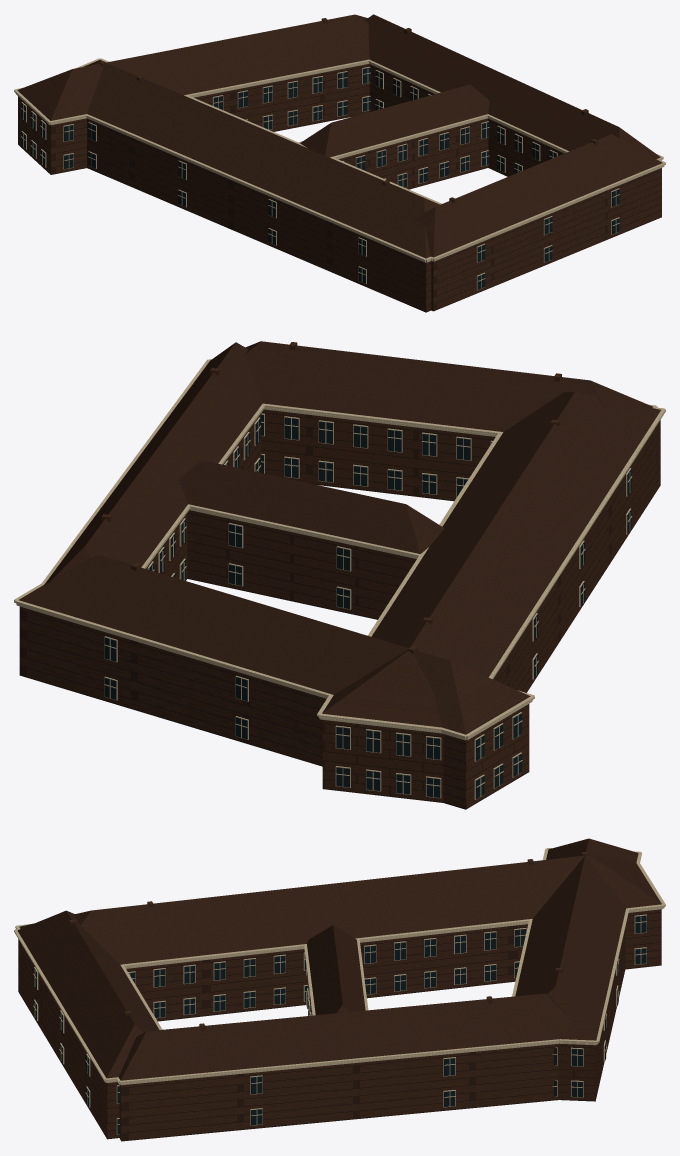
3 views of the same model, one above another, from view 1: azimuth 30°, elevation 25°; view 2: azimuth 150°, elevation 25°; view 3: azimuth 270°, elevation 25° (orthographic). The views are drawn at different scales.
Visible parts, largest first — view 1: burgerweeshuis-1, burgerweeshuis-0, burgerweeshuis-2, burgerweeshuis-3; view 2: burgerweeshuis-1, burgerweeshuis-0, burgerweeshuis-2, burgerweeshuis-3; view 3: burgerweeshuis-1, burgerweeshuis-0, burgerweeshuis-2, burgerweeshuis-3.
Part boxes in pixels (x1,y1,x2,y2): burgerweeshuis-1: [17, 14, 662, 258]; burgerweeshuis-0: [18, 18, 661, 312]; burgerweeshuis-2: [14, 58, 665, 290]; burgerweeshuis-3: [21, 67, 619, 289]; burgerweeshuis-1: [19, 341, 660, 734]; burgerweeshuis-0: [19, 342, 660, 809]; burgerweeshuis-2: [14, 359, 665, 799]; burgerweeshuis-3: [104, 414, 631, 799]; burgerweeshuis-1: [17, 838, 661, 1080]; burgerweeshuis-0: [18, 852, 661, 1141]; burgerweeshuis-2: [14, 848, 665, 1134]; burgerweeshuis-3: [33, 915, 646, 1134].
Bounding box in the file's own units: 74.66 × 14.15 × 87.88.
4 materials, 4 textured.
